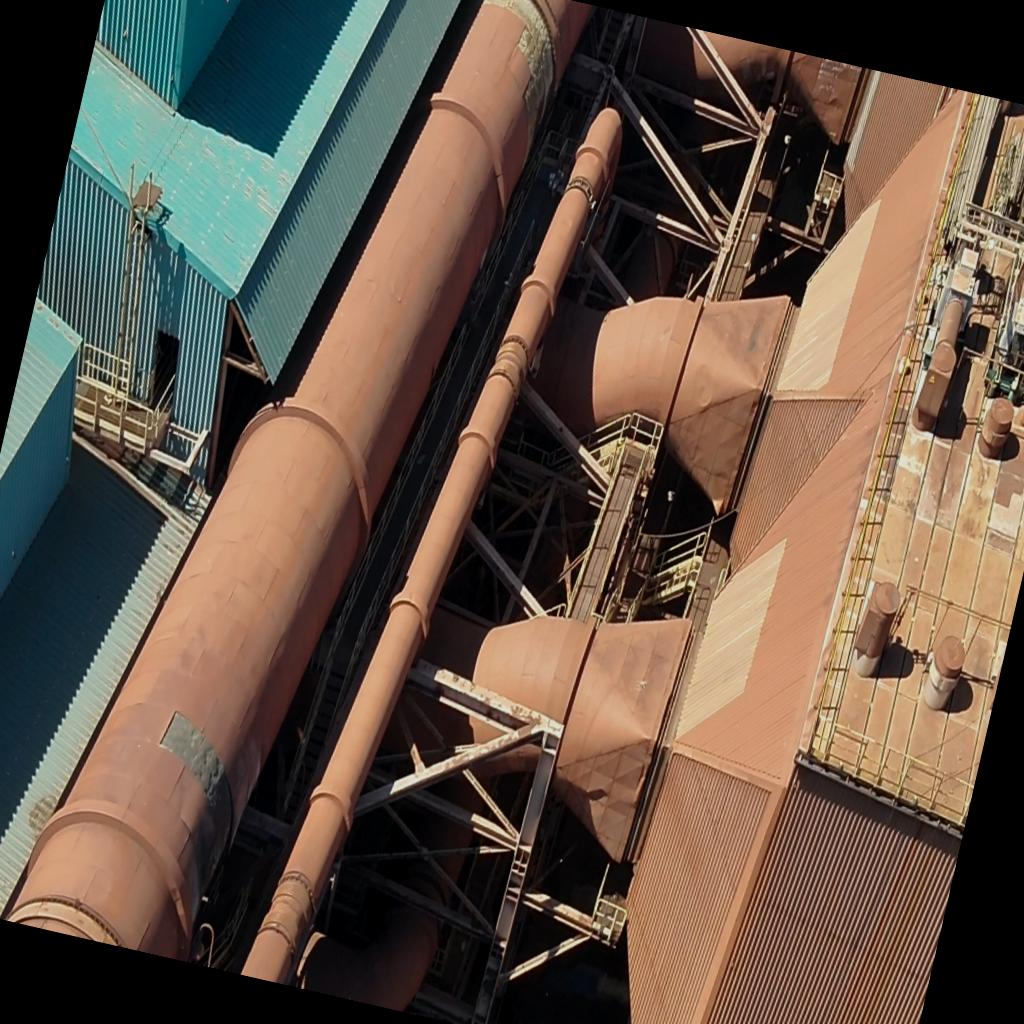Failures: (130, 692, 262, 882), (445, 0, 575, 157)
